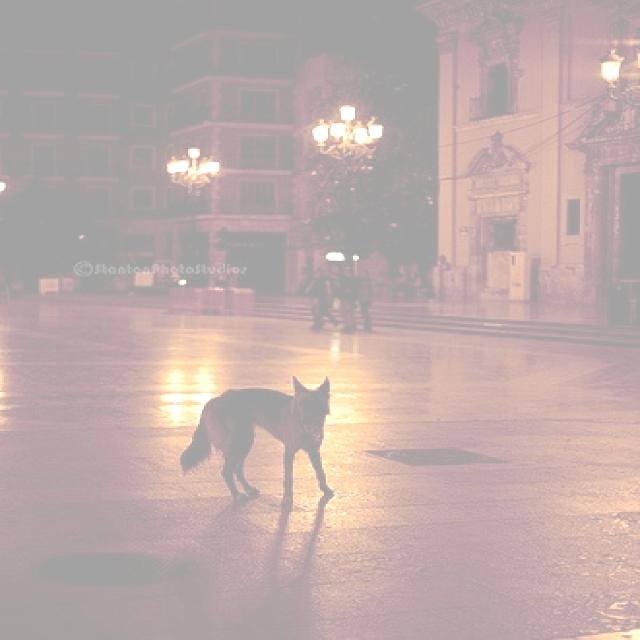Dog: (135, 383, 444, 556)
